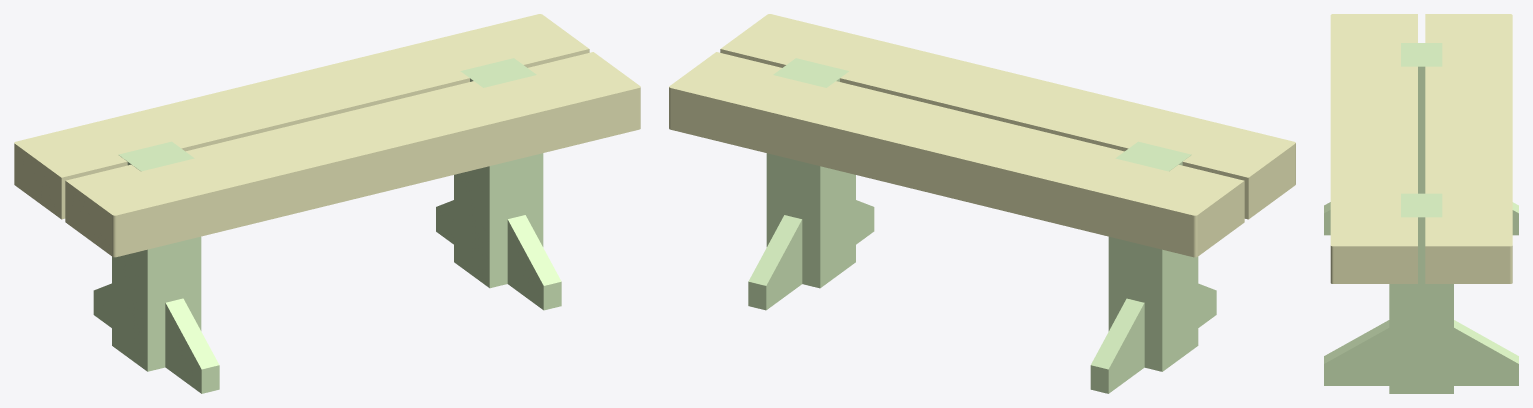
3 renders of one model, left to right at view 1: azimuth 30°, elevation 25°; view 2: azimuth 150°, elevation 25°; view 3: azimuth 270°, elevation 25°, orthographic. The views are drawn at different scales.
Parts seen in each view (by area): view 1: mesh1_mesh1-geometry, mesh3_mesh3-geometry; view 2: mesh1_mesh1-geometry, mesh3_mesh3-geometry; view 3: mesh1_mesh1-geometry, mesh3_mesh3-geometry.
Part boxes in pixels (<box>): mesh1_mesh1-geometry: <box>14,14,640,257</box>; mesh3_mesh3-geometry: <box>93,58,561,393</box>; mesh1_mesh1-geometry: <box>669,14,1295,257</box>; mesh3_mesh3-geometry: <box>748,58,1216,393</box>; mesh1_mesh1-geometry: <box>1330,14,1512,283</box>; mesh3_mesh3-geometry: <box>1324,43,1518,393</box>.
Bounding box in the file's own units: 0.8941 × 0.3167 × 0.3167.
